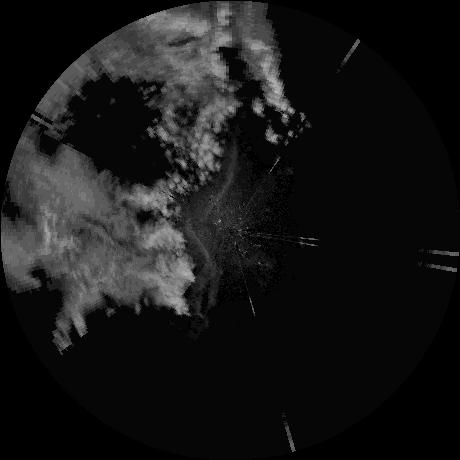frontgust: (210, 150, 236, 210), (191, 228, 212, 265)
